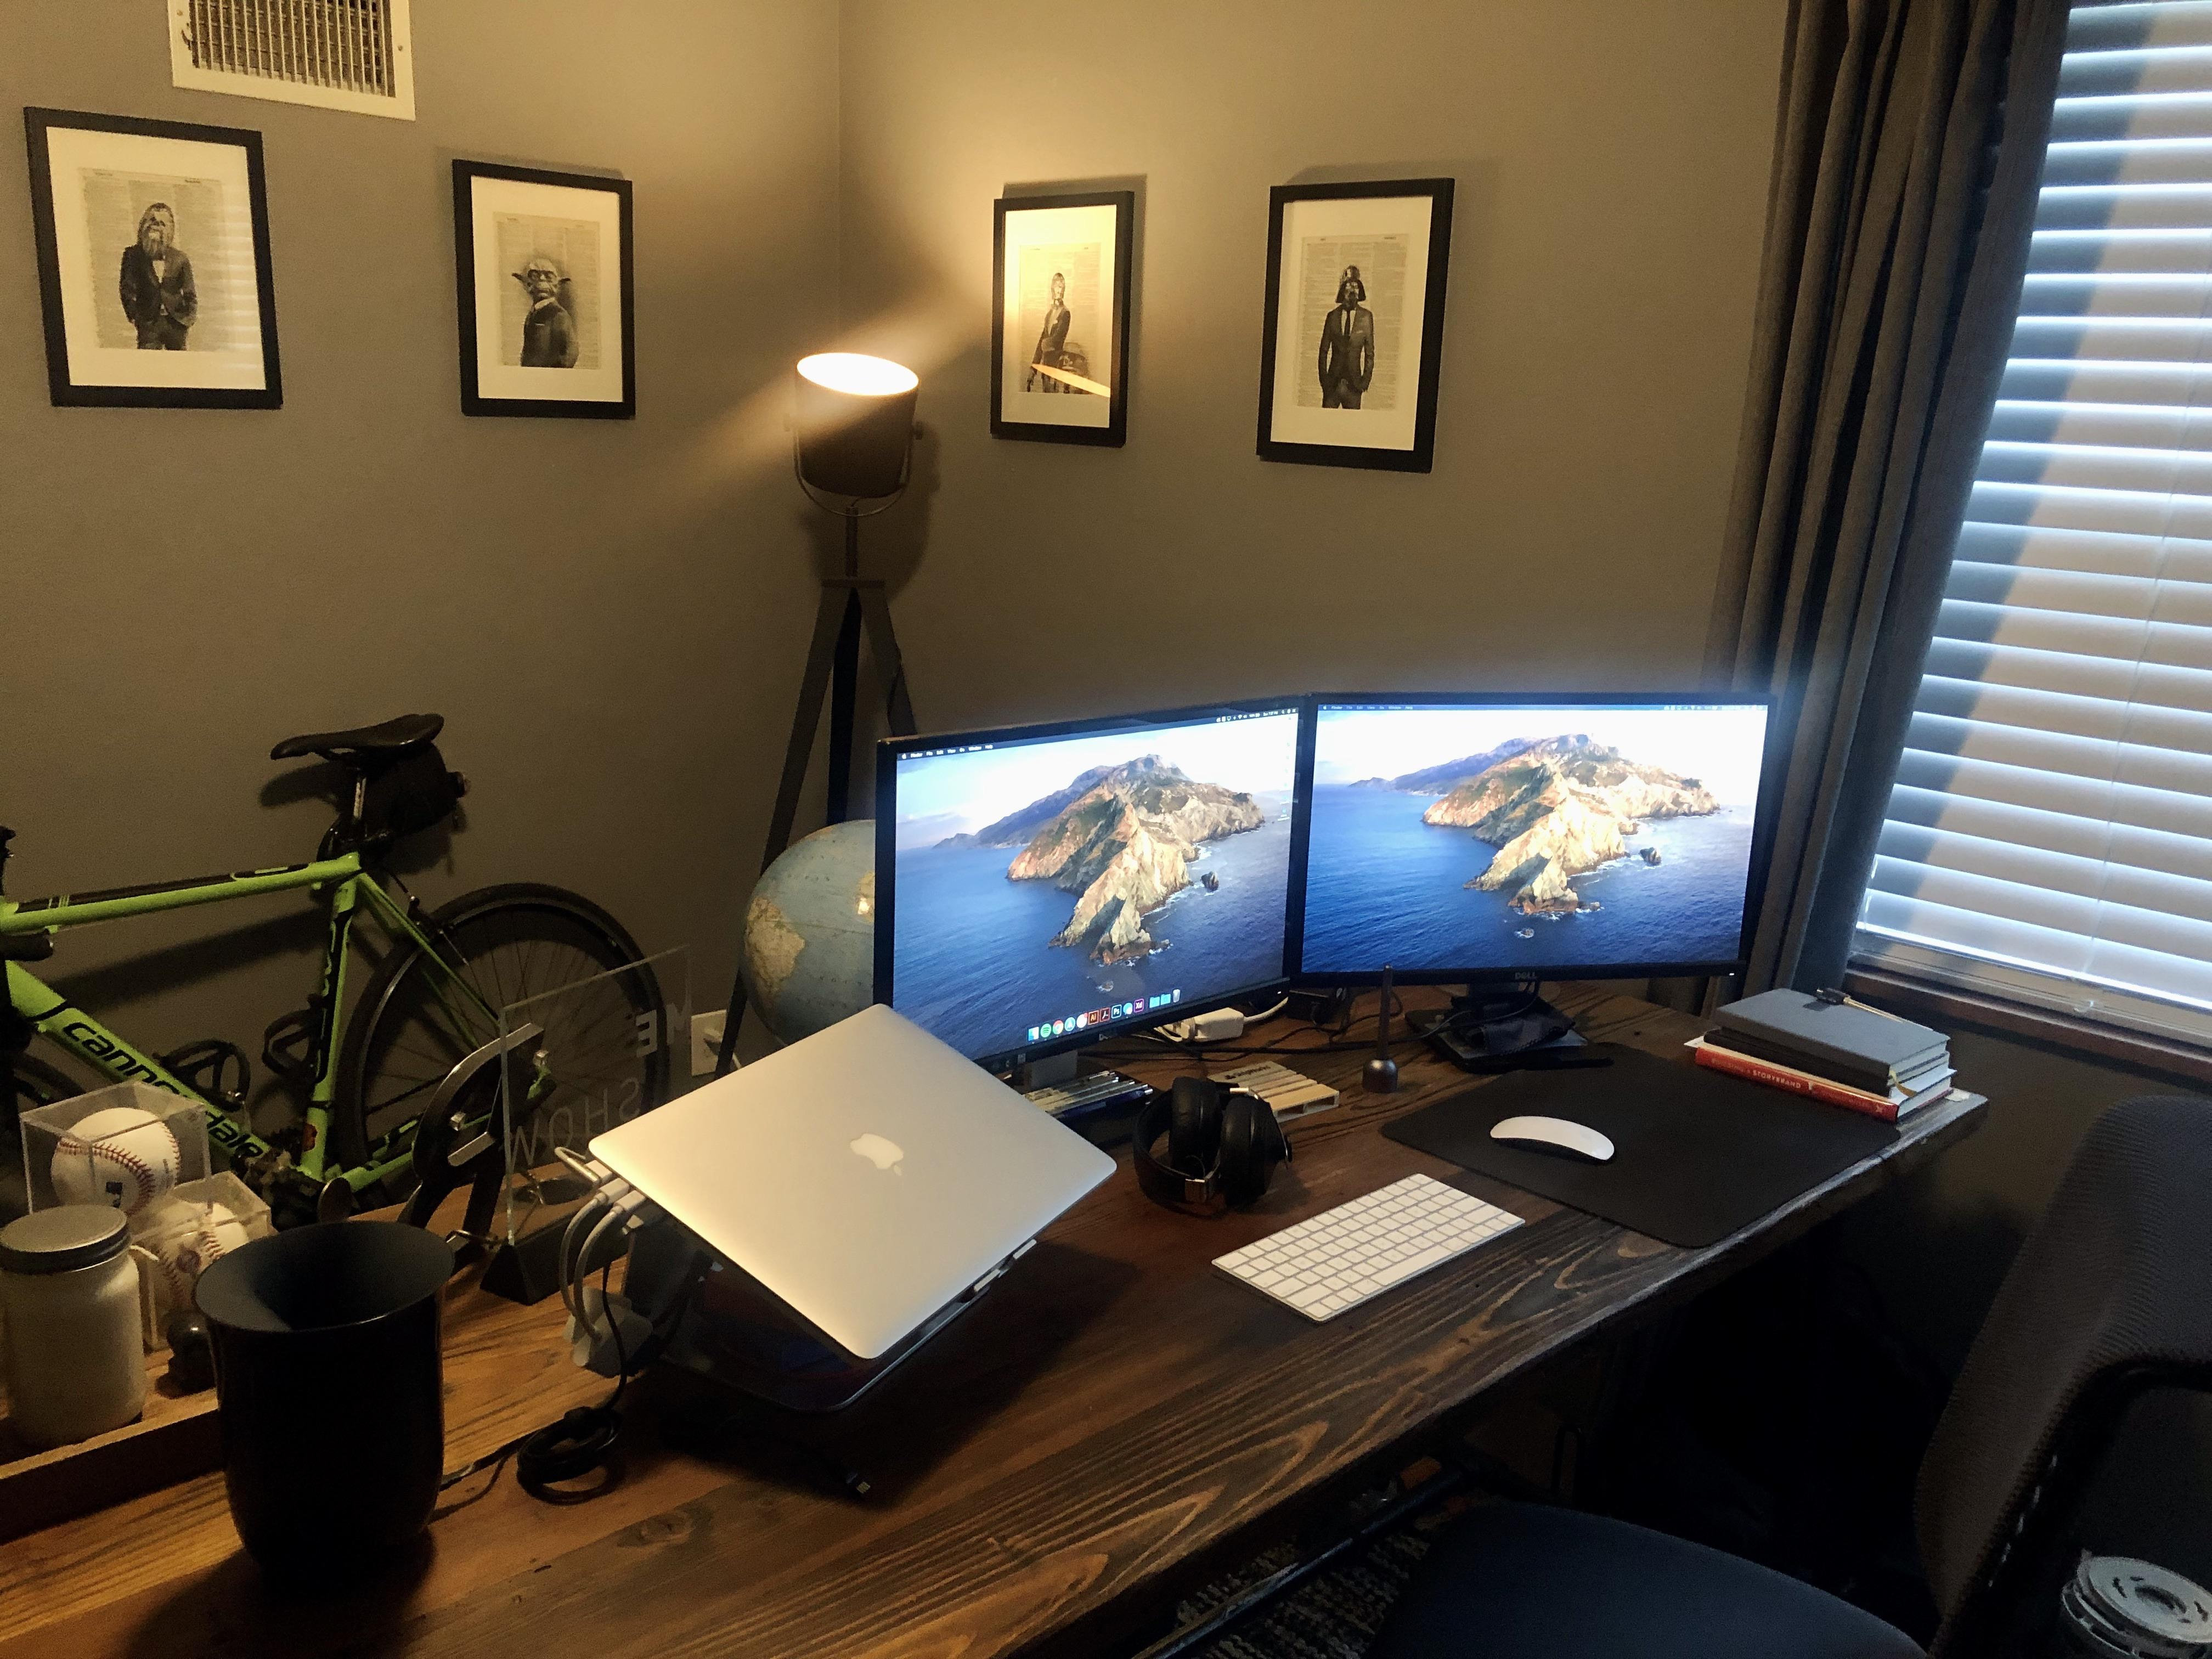Chair (Generic): (1298, 1061, 2212, 1652)
Decoration (Generic): (0, 1094, 226, 1220)
Decoration (Picture): (26, 106, 294, 422), (1252, 167, 1463, 484), (446, 155, 646, 429), (975, 178, 1162, 458)
Desk (Generic): (14, 899, 1989, 1640)
Drink Coaster: (1211, 1060, 1339, 1124)
Headphones: (1125, 1070, 1299, 1223)
Keyboard (Generic): (1226, 1168, 1578, 1319)
Lamp (Floor): (726, 312, 995, 709)
Laptop (OSX): (611, 1009, 1090, 1352)
Laptop Stand: (571, 1197, 1003, 1398)
Monitor (Landscape): (1310, 692, 1743, 985), (873, 735, 1308, 1007)
Mouse (Generic): (1475, 1100, 1627, 1190)
Mousepad (Gaming): (1442, 1035, 1888, 1220)
Notebook: (1702, 983, 1952, 1091)
